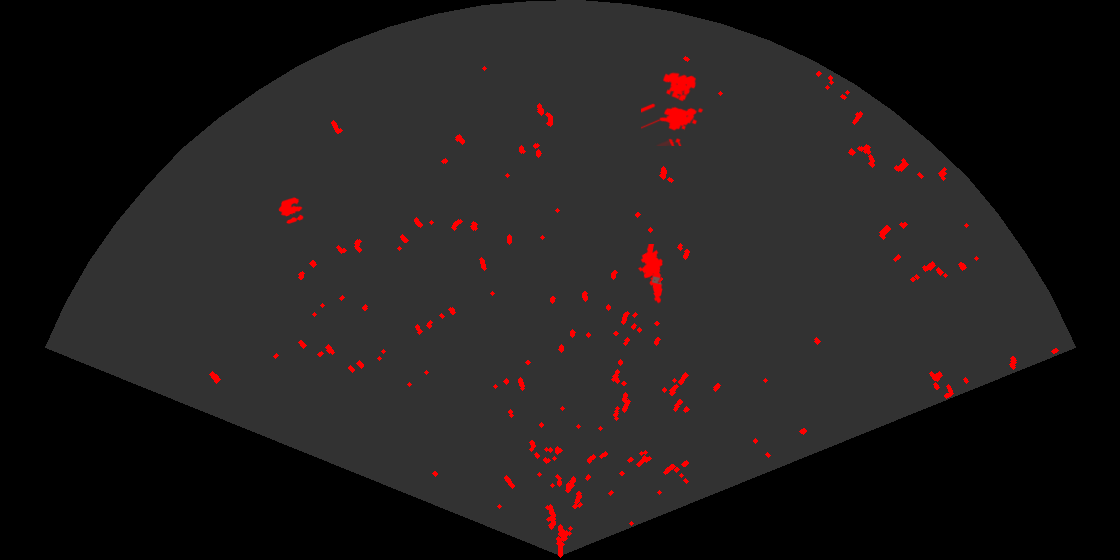ball: (277, 196, 305, 226)
cage: (641, 71, 705, 146)
frogman: (636, 244, 664, 304)
